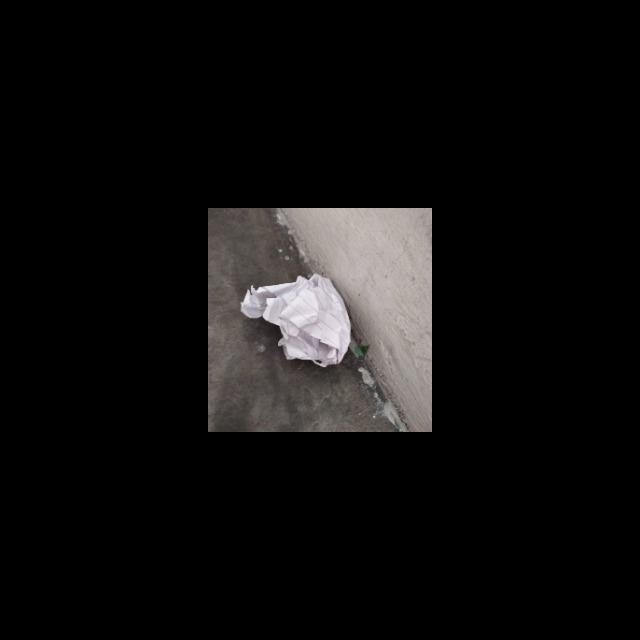paper: (237, 267, 353, 370)
